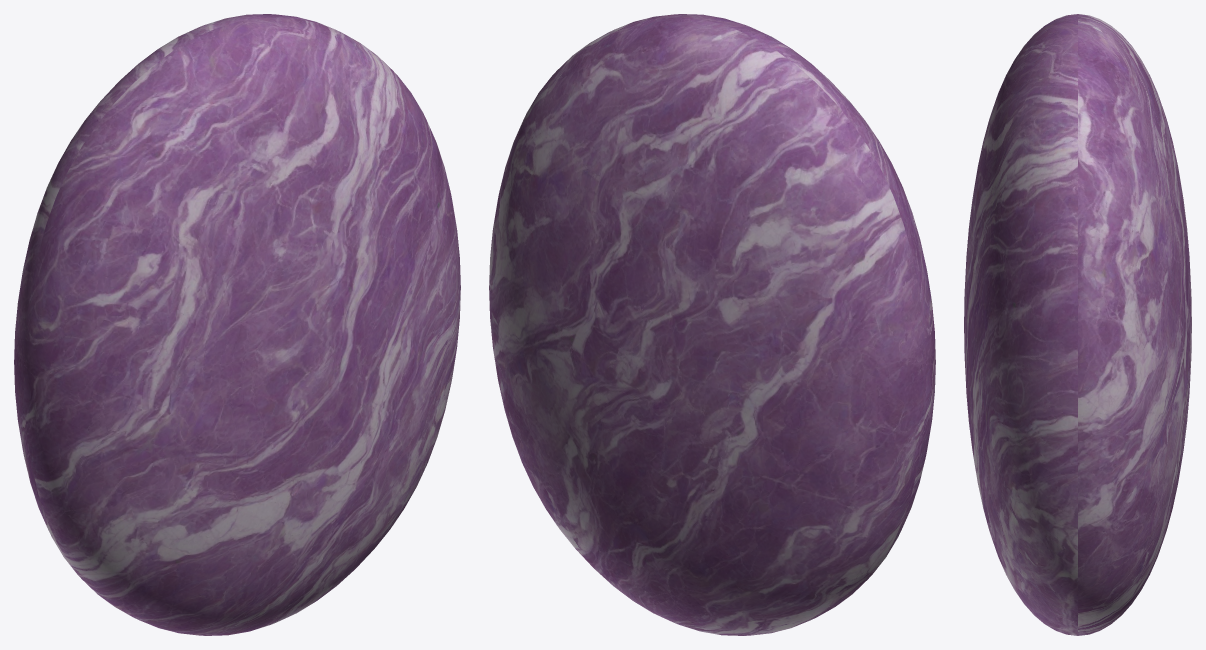
The model's file is Amethyst.fbx.
3 renders of one model, left to right at view 1: azimuth 30°, elevation 25°; view 2: azimuth 150°, elevation 25°; view 3: azimuth 270°, elevation 25°, orthographic. The views are drawn at different scales.
Visible parts, largest first — view 1: Amethyst; view 2: Amethyst; view 3: Amethyst.
Boxes of the visible parts, x1,y1,x2,y2 form: Amethyst: (14,14,460,635); Amethyst: (489,14,935,635); Amethyst: (964,14,1191,635).
Size of the model in its own units: 0.1398 by 0.1893 by 0.0666.
1 material, 1 textured.
